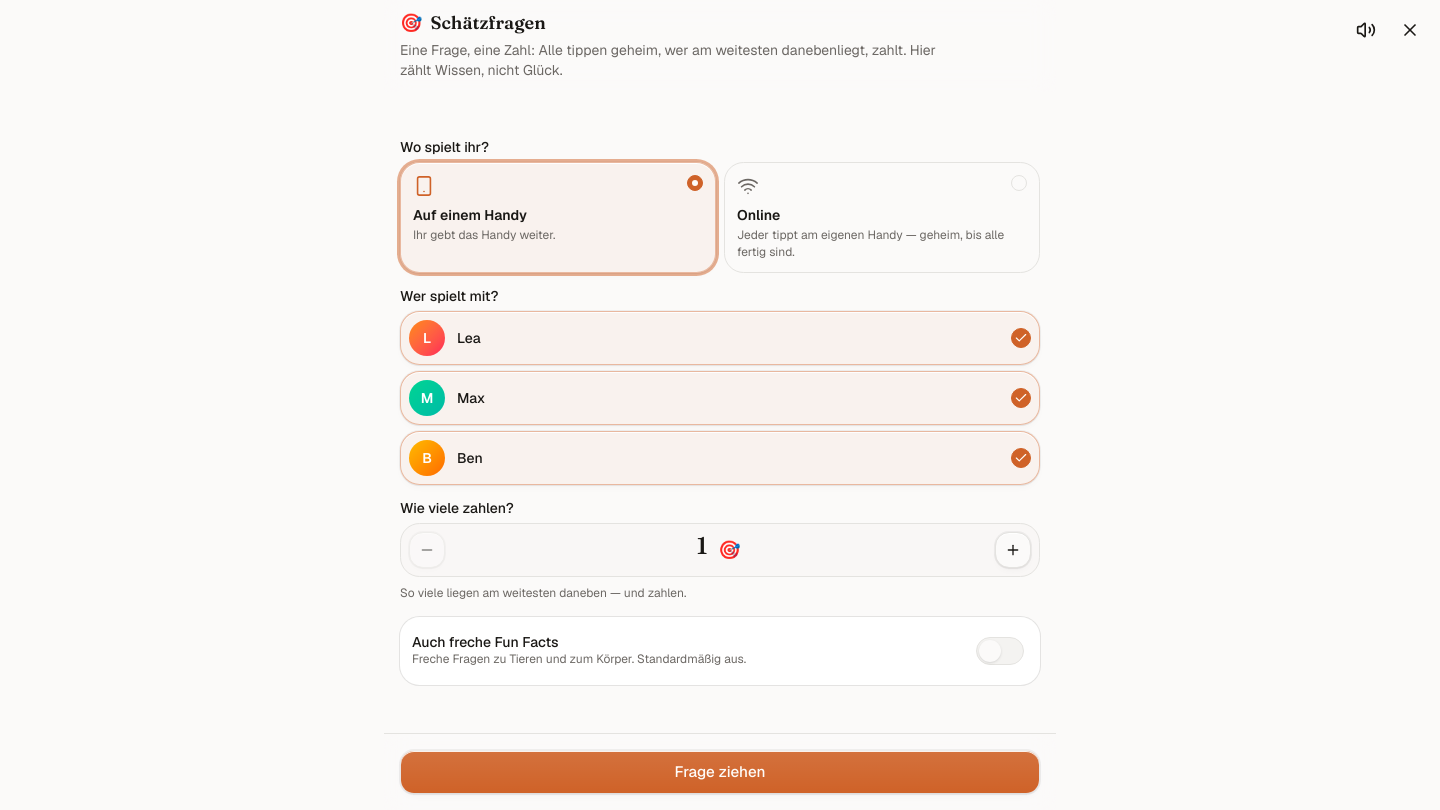
SplitEstimateDialog › where to play › says the bill is missing when the form is not complete yet
Click the radio button labelled "Online": (759,215) 724,162 -> 1040,273
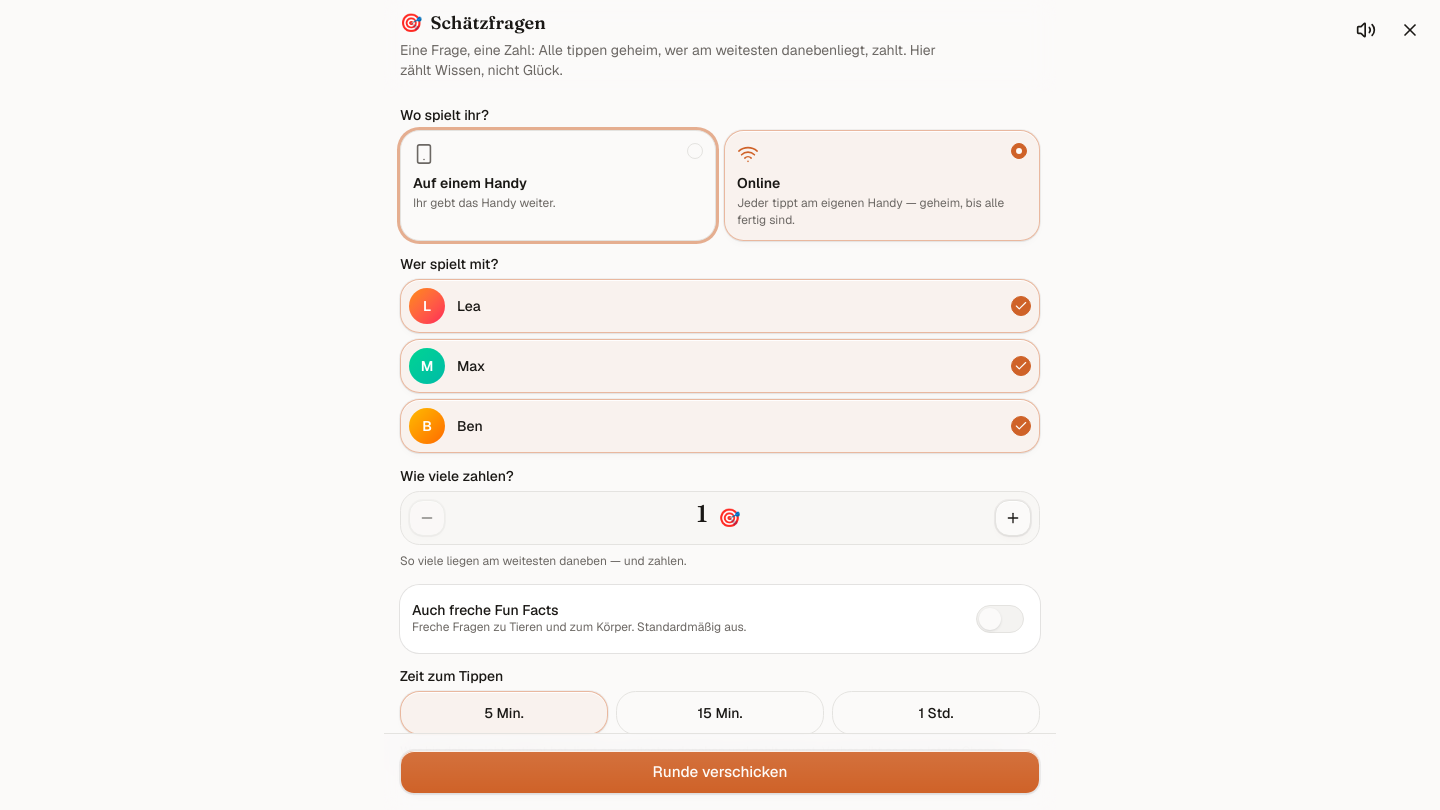
Click the button "Runde verschicken": (720,772) 400,750 -> 1040,794
(page scrolled)
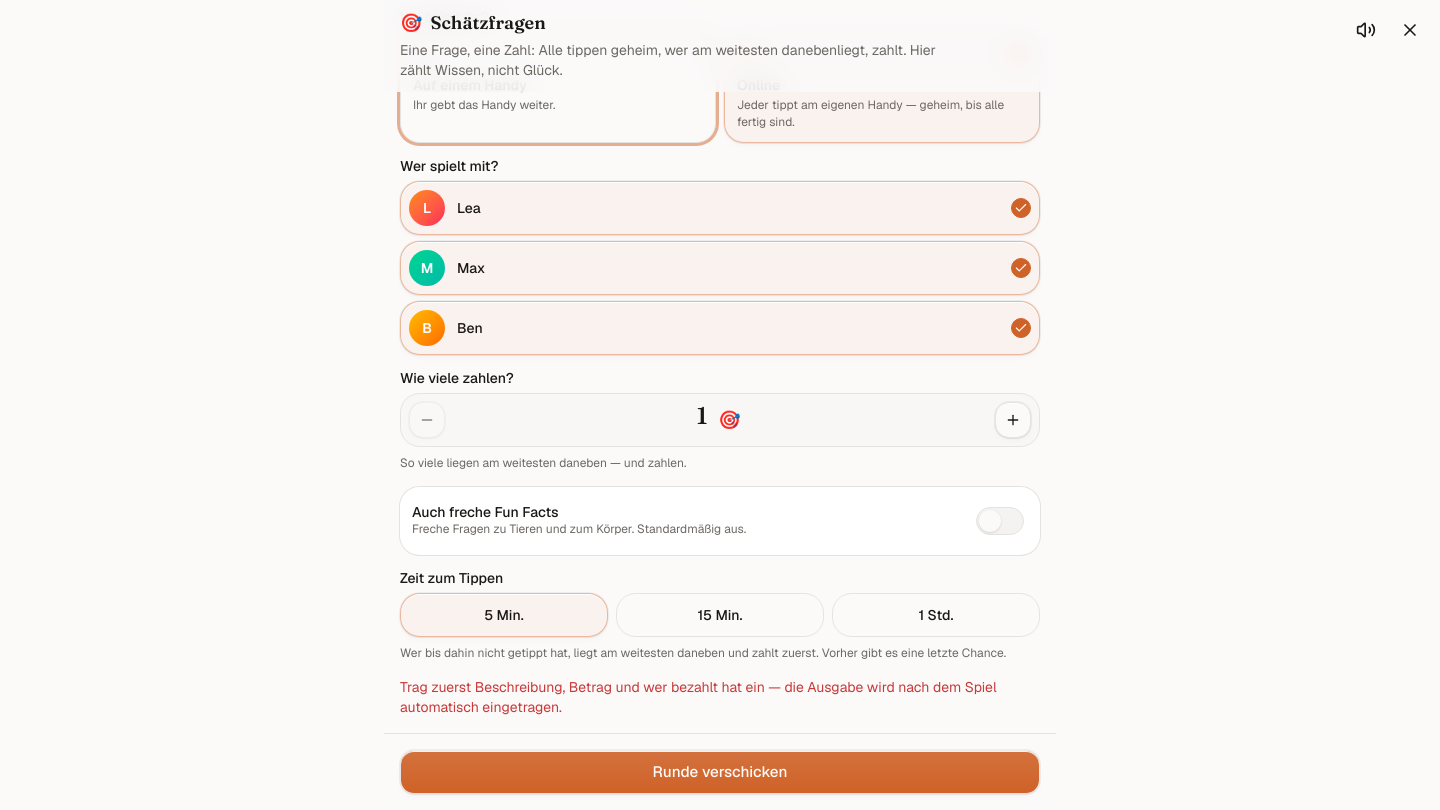
Expected: the message shows "Trag zuerst Beschreibung, Betrag und wer bezahlt hat ein — die Ausgabe wird nach dem Spiel automatisch eingetragen.", 400,678 -> 997,716
